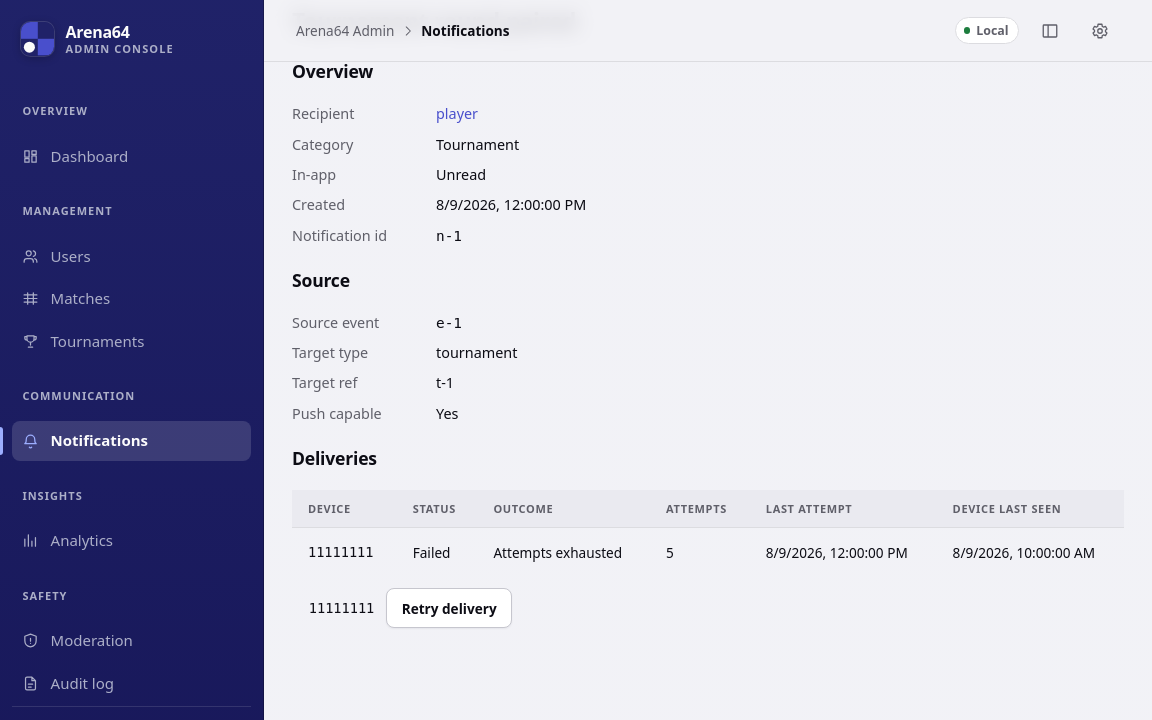
Test case: confirms the retry, sends no body, and reports only that it was queued
This screenshot has width=1152, height=720.
(page scrolled)
Step 1. Click the button "Retry delivery" → [449, 608], box [386,588,512,628]
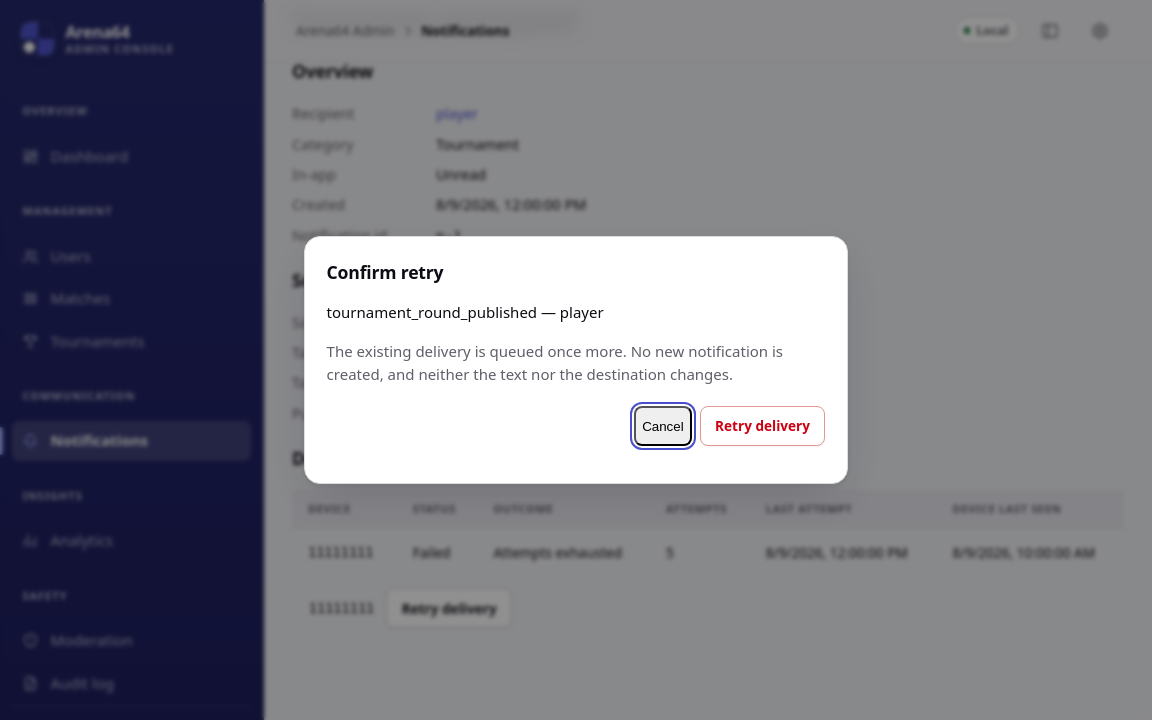
Expected: the text "tournament_round_published — player" is shown, [327,302,604,322]
Step 2. Click the button "Retry delivery" → [763, 426], box [700,406,825,446]
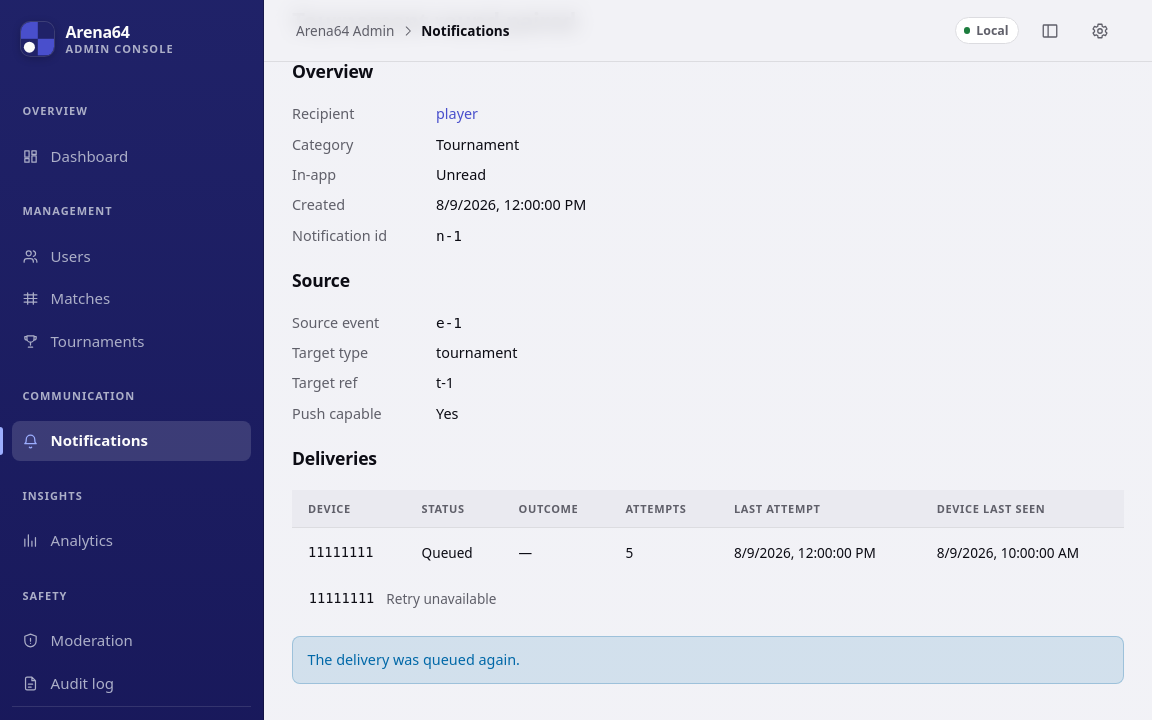
Expected: the text "The delivery was queued again." is shown, [292,636,1124,684]
